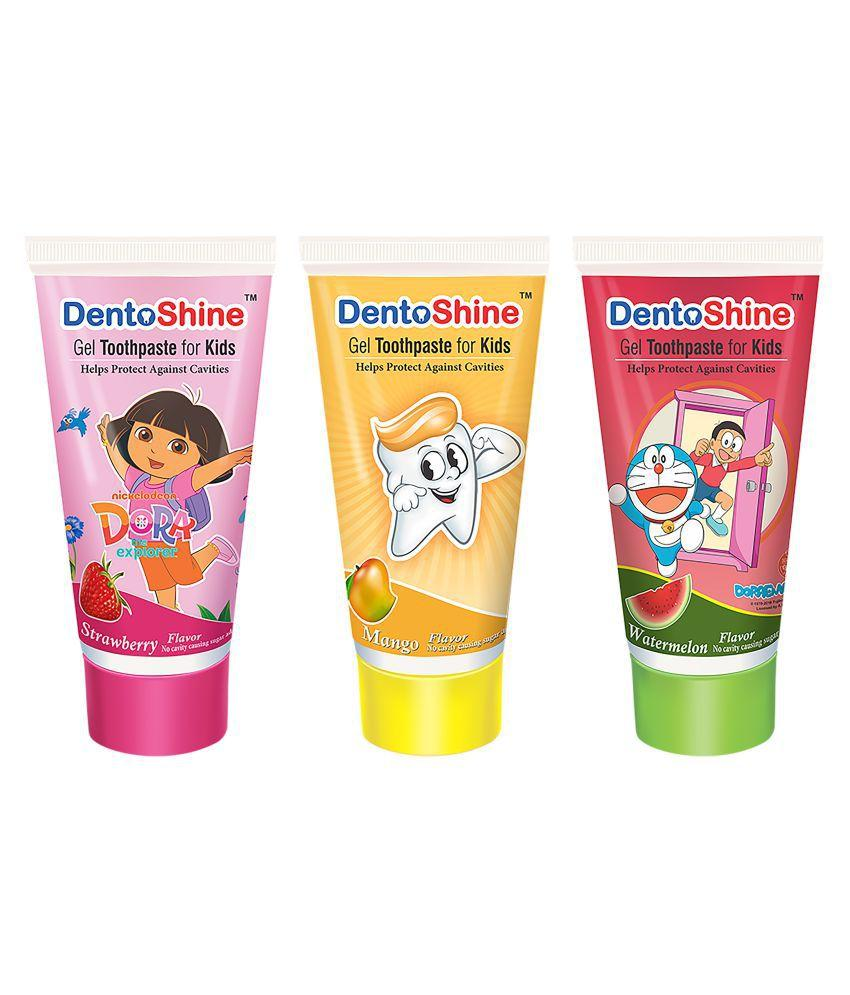toothpaste: (300, 225, 564, 774), (24, 229, 286, 766), (571, 221, 823, 765)
